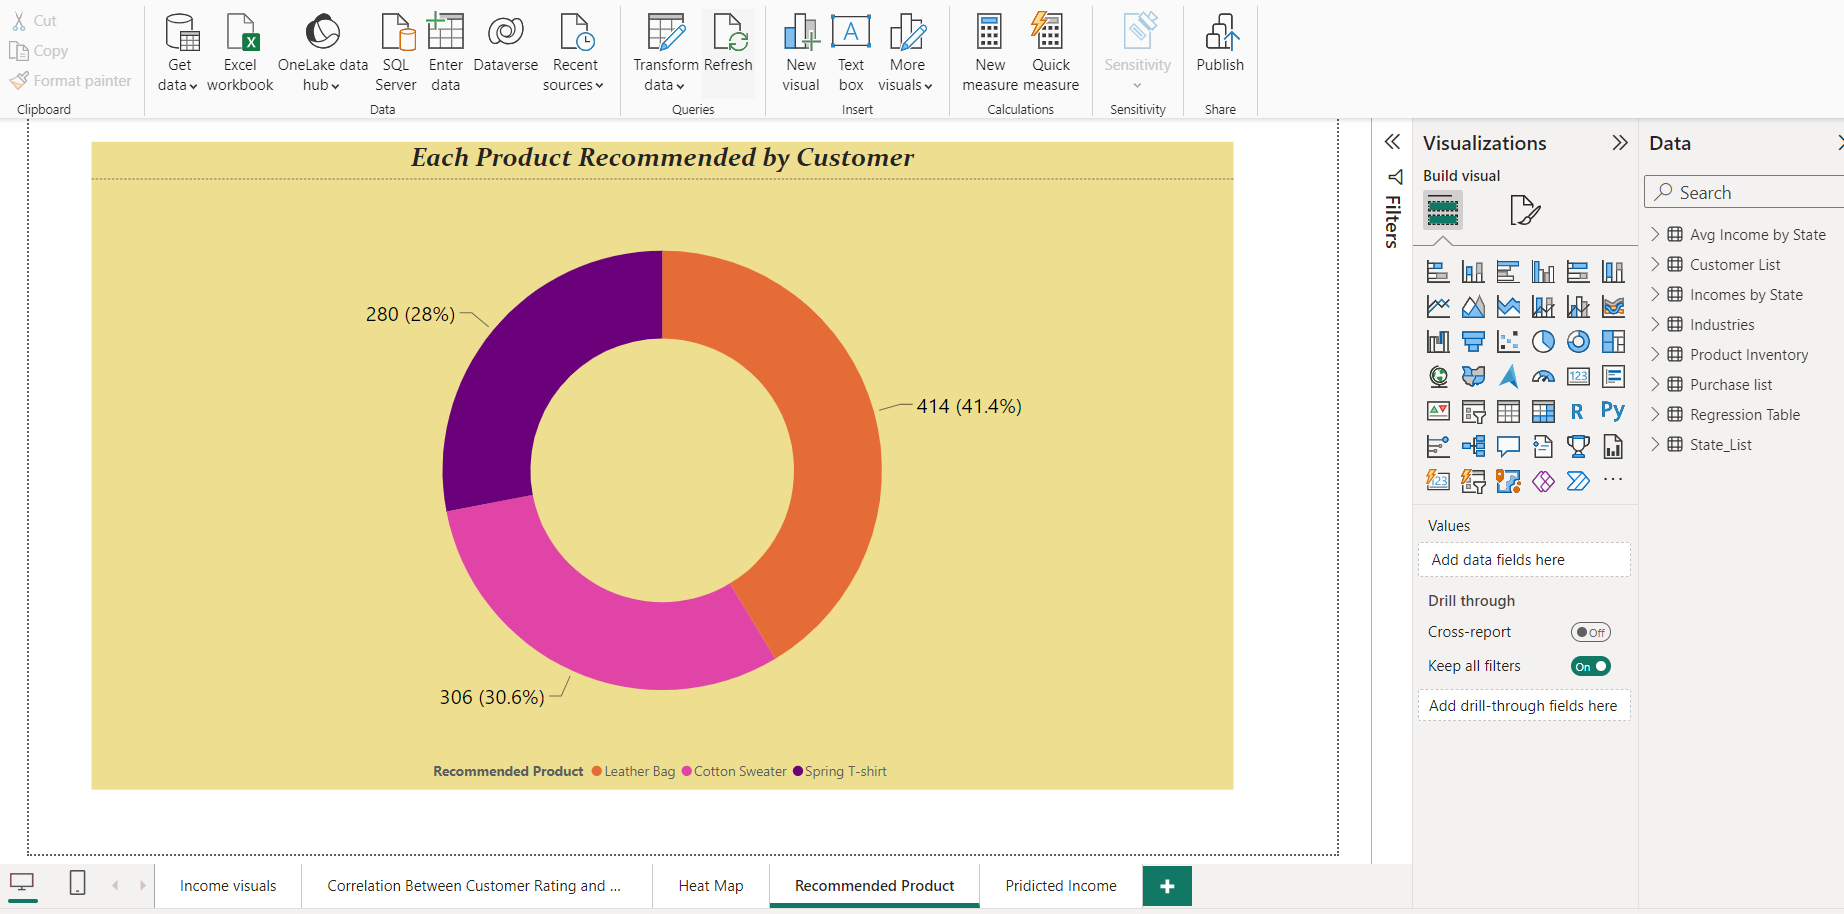

The page's visual inventory and layout, read from the dashboard file:
{"tool":"powerbi","page":{"name":"Recommended Product","canvas":[1280,720],"ordinal":3},"visuals":[{"type":"donutChart","title":"Each Product Recommended by Customer","fields":{"Category":["Customer List.Recommended Product"],"Y":["CountNonNull(Customer List.Customer ID)"]},"box":[61,23.1,1116.7,633.4],"z":0}]}

Visuals, with their boxes on the page's 1280x720 design canvas (x1, y1, x2, y2). These are canvas units, not pixel positions in the 1844x914 screenshot, which may show the page scaled, cropped or inside an application window:
"Each Product Recommended by Customer" donutChart: (61,23,1178,656)
